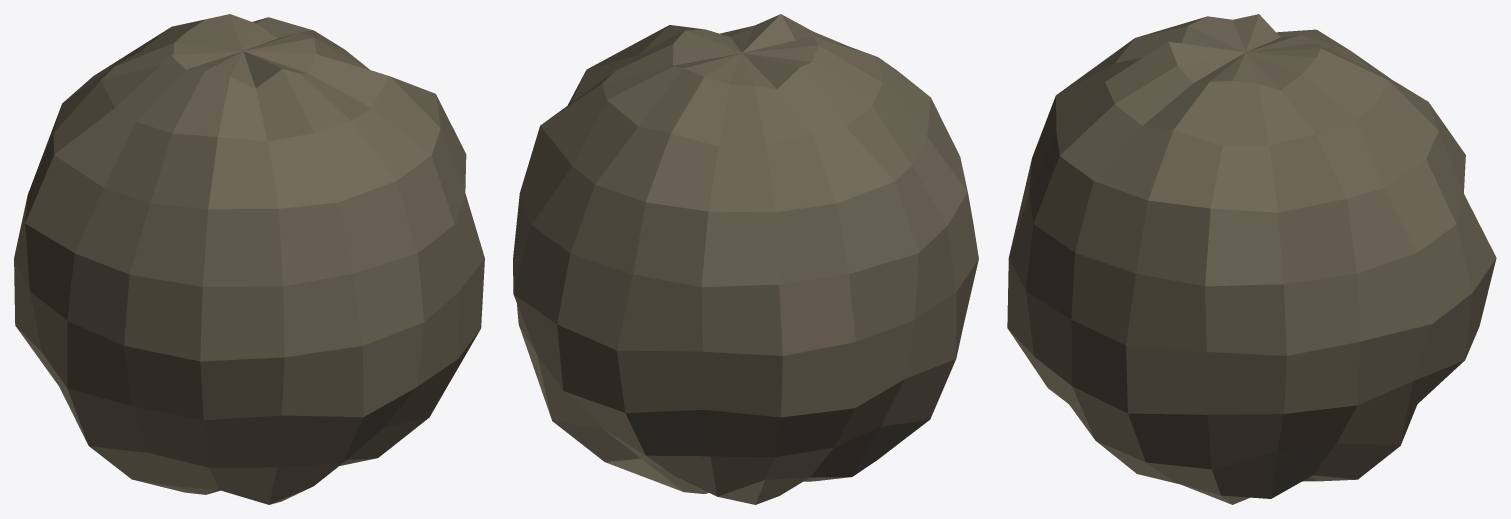
Rendered from hill_brown.fbx.
3 views of the same model, side by side, from view 1: azimuth 30°, elevation 25°; view 2: azimuth 150°, elevation 25°; view 3: azimuth 270°, elevation 25° (orthographic).
Parts seen in each view (by area): view 1: hill_brown; view 2: hill_brown; view 3: hill_brown.
Part boxes in pixels (bbox=[...]): hill_brown: bbox=[14, 14, 484, 504]; hill_brown: bbox=[513, 14, 978, 504]; hill_brown: bbox=[1007, 14, 1496, 504].
Bounding box in the file's own units: 1.94 × 2.05 × 2.06.
